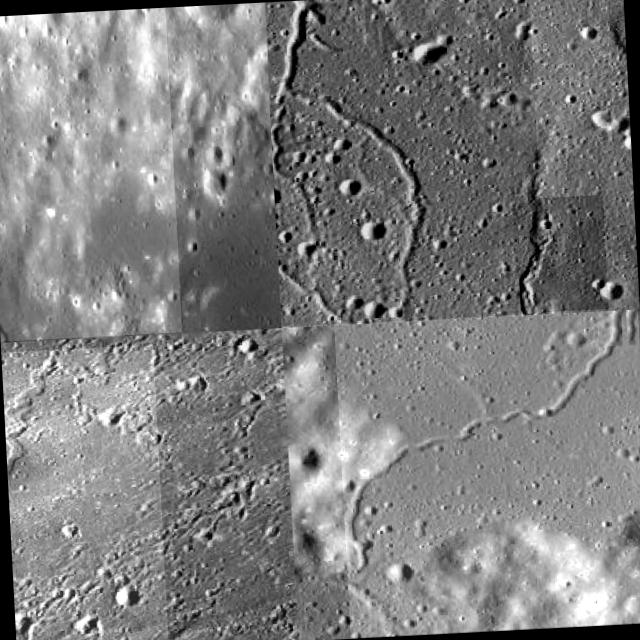rille: (334, 309, 640, 637), (265, 0, 546, 327), (0, 7, 182, 341), (264, 0, 434, 327), (1, 344, 169, 640), (511, 196, 609, 314), (270, 102, 324, 251)
